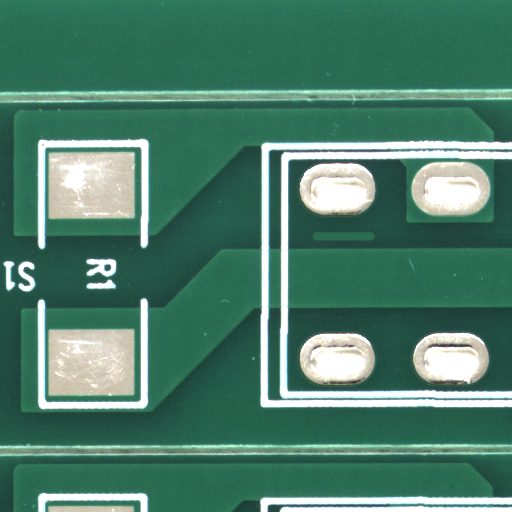Spurious_copper: (342, 235, 403, 249)
